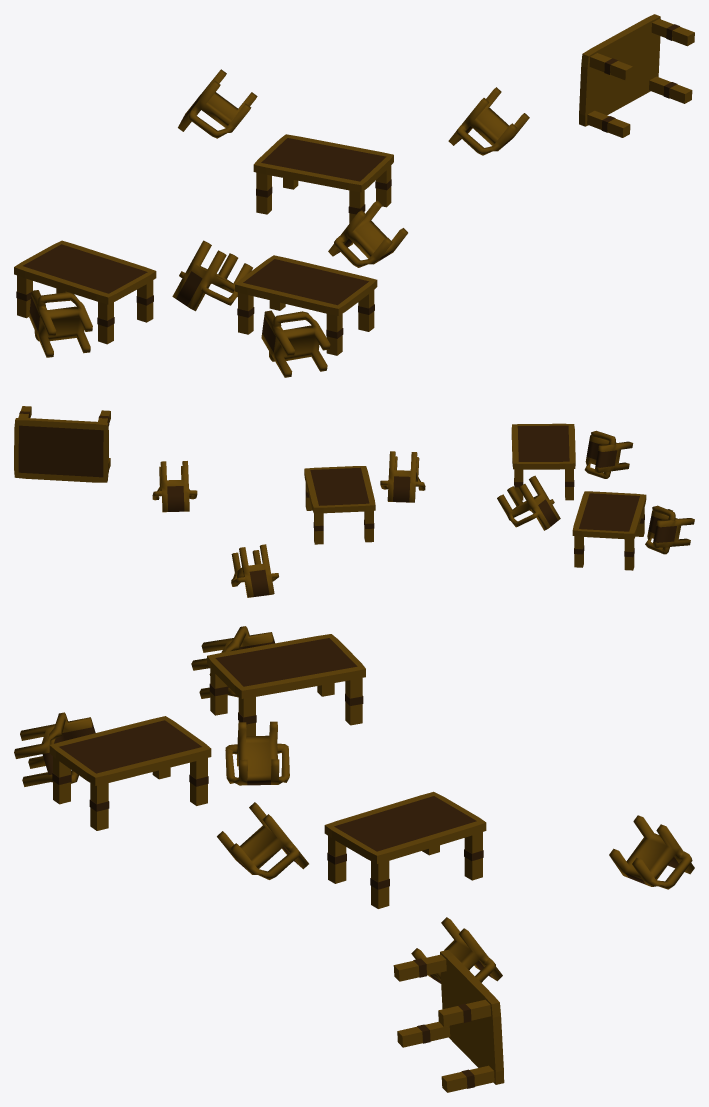
Rendered from upsideDown_tables.fbx.
3 views of the same model, one above another, from view 1: azimuth 30°, elevation 25°; view 2: azimuth 150°, elevation 25°; view 3: azimuth 270°, elevation 25° (orthographic). The views are drawn at different scales.
Parts seen in each view (by area): view 1: upsideDown_tables; view 2: upsideDown_tables; view 3: upsideDown_tables.
Part boxes in pixels (x1=…): upsideDown_tables: x1=14, y1=14, x2=694, y2=377; upsideDown_tables: x1=14, y1=406, x2=694, y2=597; upsideDown_tables: x1=14, y1=626, x2=694, y2=1092.
Size of the model in its own units: 1144 by 107 by 790.
